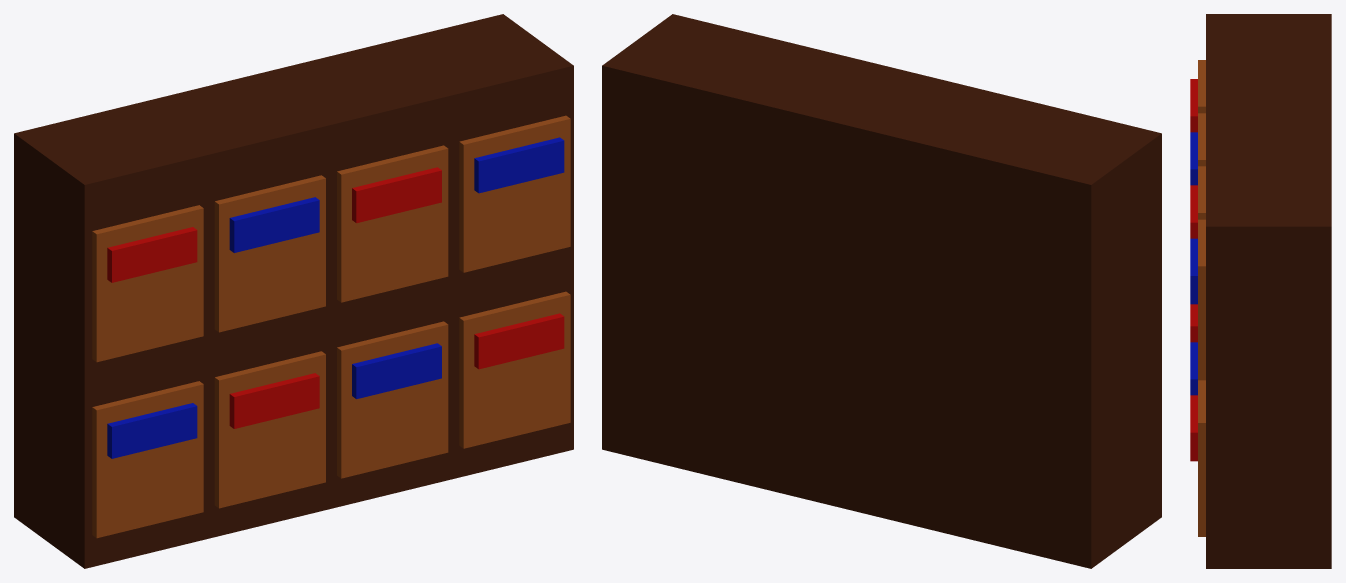
File: shoe_cubby.obj
The picture shows the model from 3 angles, left to right: view 1: azimuth 30°, elevation 25°; view 2: azimuth 150°, elevation 25°; view 3: azimuth 270°, elevation 25°; orthographic projection. The views are drawn at different scales.
Visible parts, largest first — view 1: shoe_cubby; view 2: shoe_cubby; view 3: shoe_cubby.
Part boxes in pixels (x1,y1,x2,y2): shoe_cubby: (14, 14, 573, 568); shoe_cubby: (602, 14, 1161, 568); shoe_cubby: (1190, 14, 1331, 568).
Bounding box in the file's own units: 1.6 × 1.2 × 0.45.
